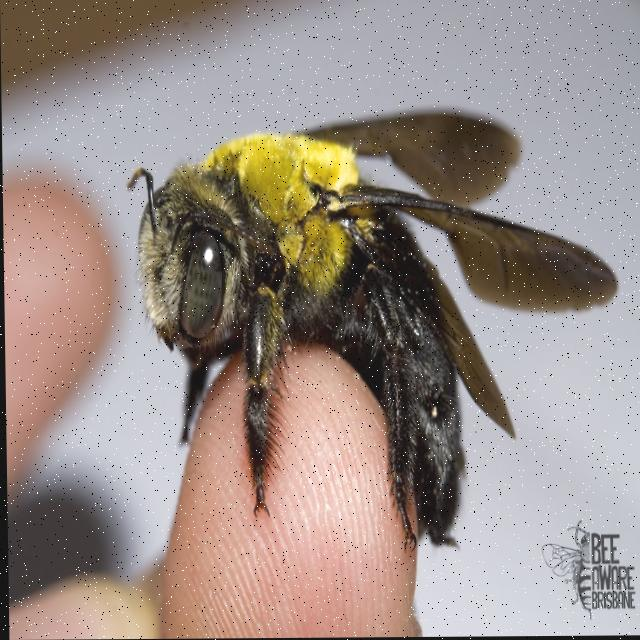Xylocopa: (122, 94, 618, 577)
